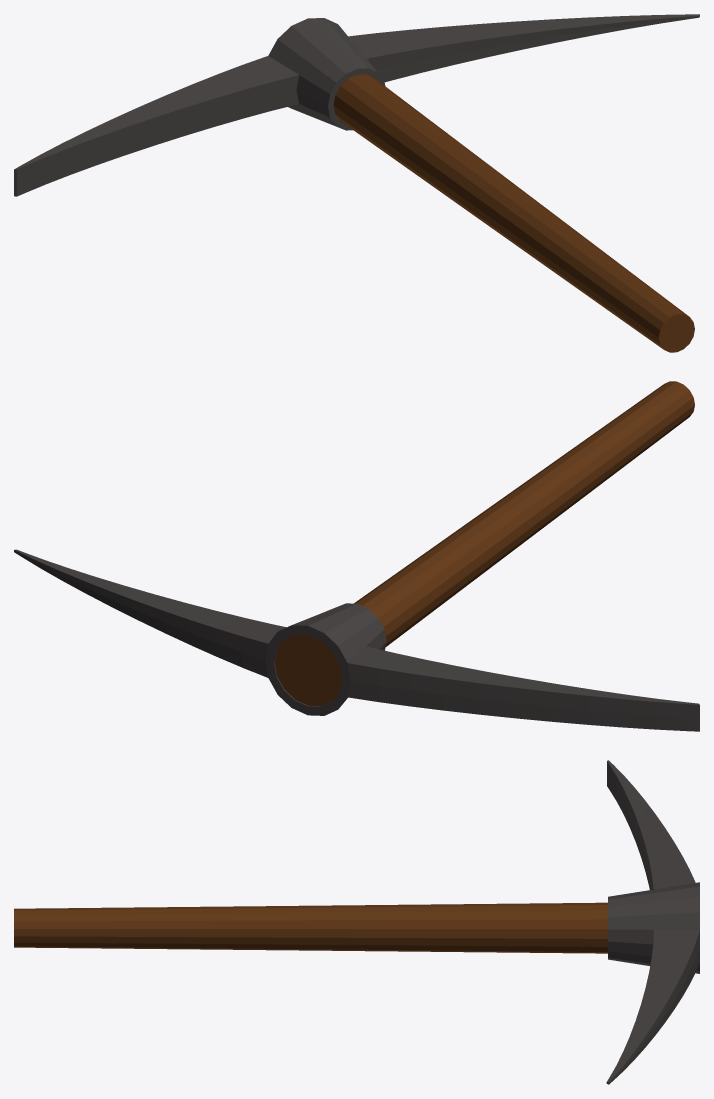
The model's file is RockPickaxe.fbx.
3 views of the same model, one above another, from view 1: azimuth 30°, elevation 25°; view 2: azimuth 150°, elevation 25°; view 3: azimuth 270°, elevation 25° (orthographic). The views are drawn at different scales.
Visible parts, largest first — view 1: Cylinder, Cylinder.001; view 2: Cylinder, Cylinder.001; view 3: Cylinder.001, Cylinder.
Part boxes in pixels (x1,y1,x2,y2): Cylinder: (14,14,699,196); Cylinder.001: (333,74,694,352); Cylinder: (14,549,699,731); Cylinder.001: (274,381,694,706); Cylinder.001: (14,902,607,953); Cylinder: (606,760,699,1084).
Size of the model in its own units: 1602 by 200 by 1493.
